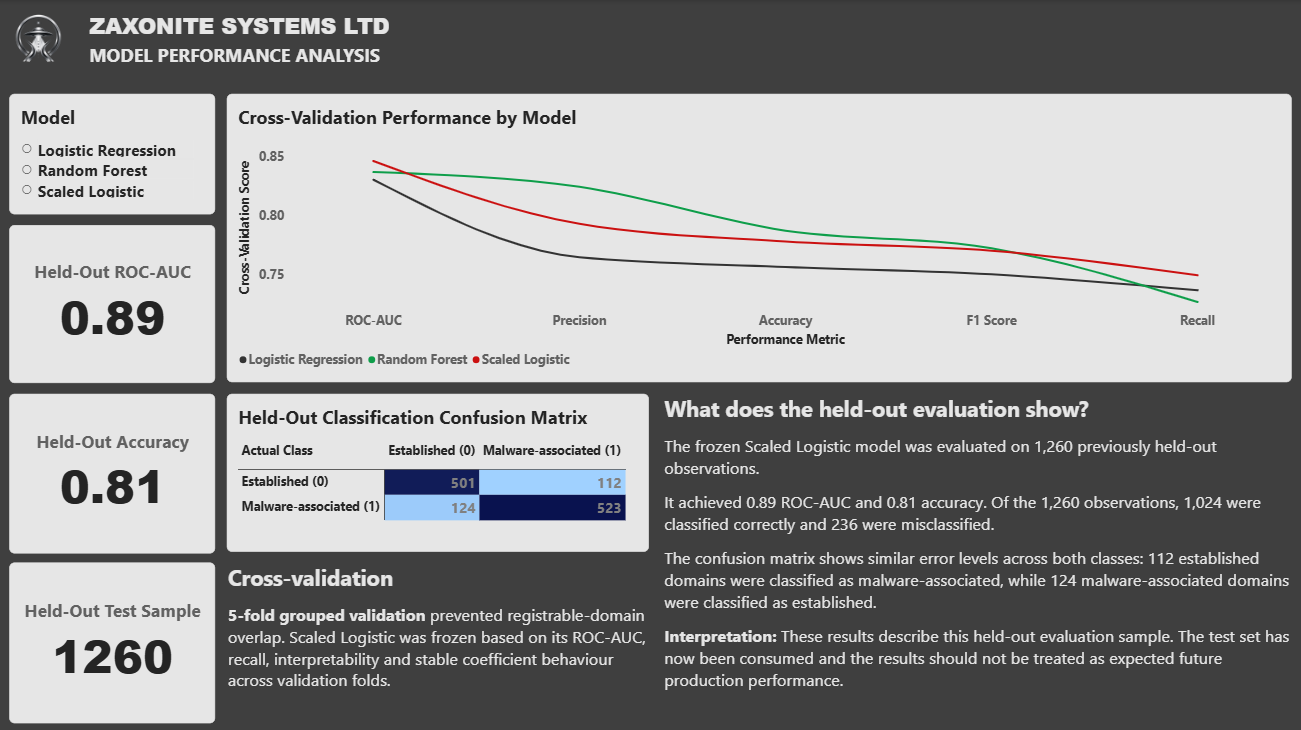

The page's visual inventory and layout, read from the dashboard file:
{"tool":"powerbi","page":{"name":"Model Performance","canvas":[1920,1080],"ordinal":4},"visuals":[{"type":"textbox","box":[134.5,61.7,500.5,55.1],"z":0},{"type":"image","box":[0,0,119.1,116.9],"z":1},{"type":"textbox","box":[133.8,14.4,473.4,47.3],"z":2},{"type":"listSlicer","fields":{"Values":["Model Performance Profile.Model"]},"box":[17.1,138.9,303.3,177.3],"z":3},{"type":"lineChart","title":"Cross-Validation Performance by Model","fields":{"Category":["Model Performance Profile.Metric"],"Y":["Avg(Model Performance Profile.Score)"],"Series":["Model Performance Profile.Model"]},"box":[337.5,138.9,1568,425.1],"z":4},{"type":"cardVisual","fields":{"Data":["Avg(candidate_evaluation_metrics.ROC - AUC)"]},"box":[17.1,331.1,303.3,232.8],"z":5},{"type":"cardVisual","fields":{"Data":["Avg(candidate_evaluation_metrics.Accuracy)"]},"box":[17.1,578.9,303.3,235],"z":6},{"type":"cardVisual","fields":{"Data":["Avg(candidate_evaluation_metrics.Test Observations)"]},"box":[17.1,828.8,303.3,237.1],"z":7},{"type":"pivotTable","title":"Held-Out Classification Confusion Matrix","fields":{"Values":["Sum(candidate_confusion_matrix.Count)"],"Columns":["candidate_confusion_matrix.Predicted Class Display"],"Rows":["candidate_confusion_matrix.Actual Class Display"]},"box":[337.5,578.9,621.6,232.8],"z":8},{"type":"textbox","box":[980.5,578.9,925,487.1],"z":9},{"type":"textbox","box":[338,829,622,237],"z":10}]}

Visuals, with their boxes in screenshot pixels (x1, y1, x2, y2), scaled from the page's 1920x1080 canvas onto the 1301x730 screenshot:
textbox: {"left": 91, "top": 42, "right": 430, "bottom": 79}
image: {"left": 0, "top": 0, "right": 81, "bottom": 79}
textbox: {"left": 91, "top": 10, "right": 411, "bottom": 42}
listSlicer - Model Performance Profile.Model: {"left": 12, "top": 94, "right": 217, "bottom": 214}
"Cross-Validation Performance by Model" lineChart: {"left": 229, "top": 94, "right": 1291, "bottom": 381}
cardVisual - Avg(candidate_evaluation_metrics.ROC - AUC): {"left": 12, "top": 224, "right": 217, "bottom": 381}
cardVisual - Avg(candidate_evaluation_metrics.Accuracy): {"left": 12, "top": 391, "right": 217, "bottom": 550}
cardVisual - Avg(candidate_evaluation_metrics.Test Observations): {"left": 12, "top": 560, "right": 217, "bottom": 720}
"Held-Out Classification Confusion Matrix" pivotTable: {"left": 229, "top": 391, "right": 650, "bottom": 549}
textbox: {"left": 664, "top": 391, "right": 1291, "bottom": 721}
textbox: {"left": 229, "top": 560, "right": 650, "bottom": 721}
